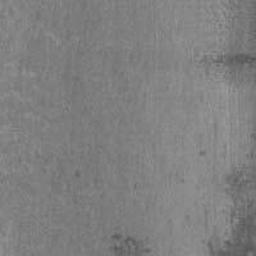Oil spot: (201, 97, 256, 256), (183, 51, 256, 87), (108, 229, 154, 256)
